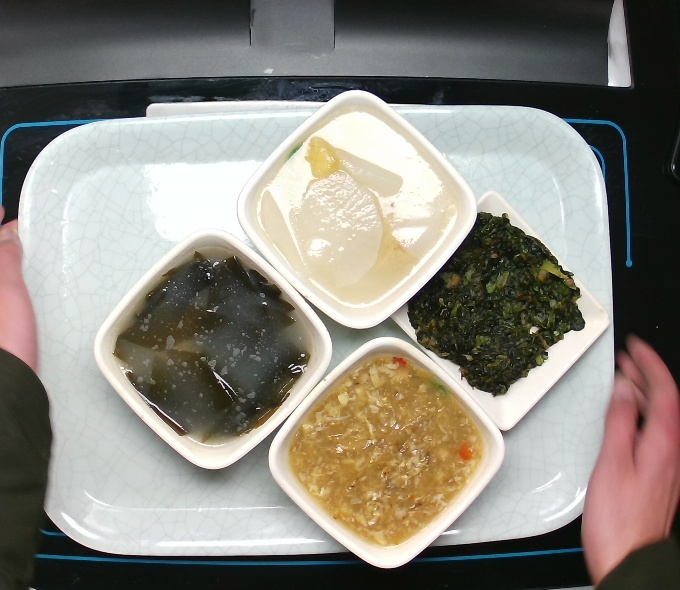wcq-HaiDaiPaiGuTang: (110, 247, 315, 443)
wcq-LuoBoYouPaoTang: (254, 107, 463, 308)
wcq-QinCaiBing: (403, 208, 586, 398)
wcq-SuanLaGeng: (288, 355, 484, 546)
